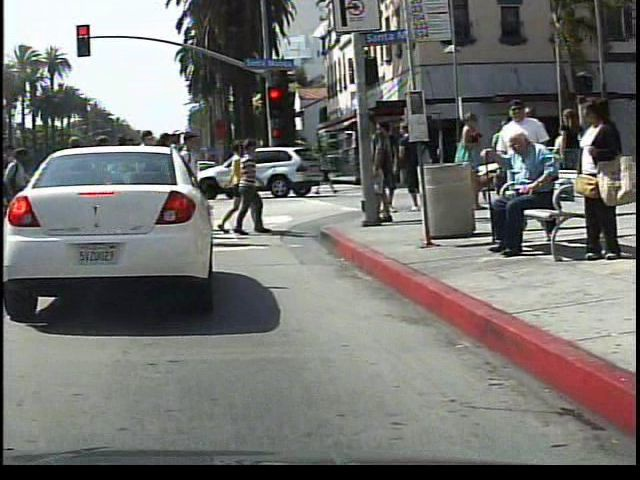person: (474, 125, 568, 256), (564, 90, 625, 269), (440, 107, 486, 214), (306, 145, 332, 196)
